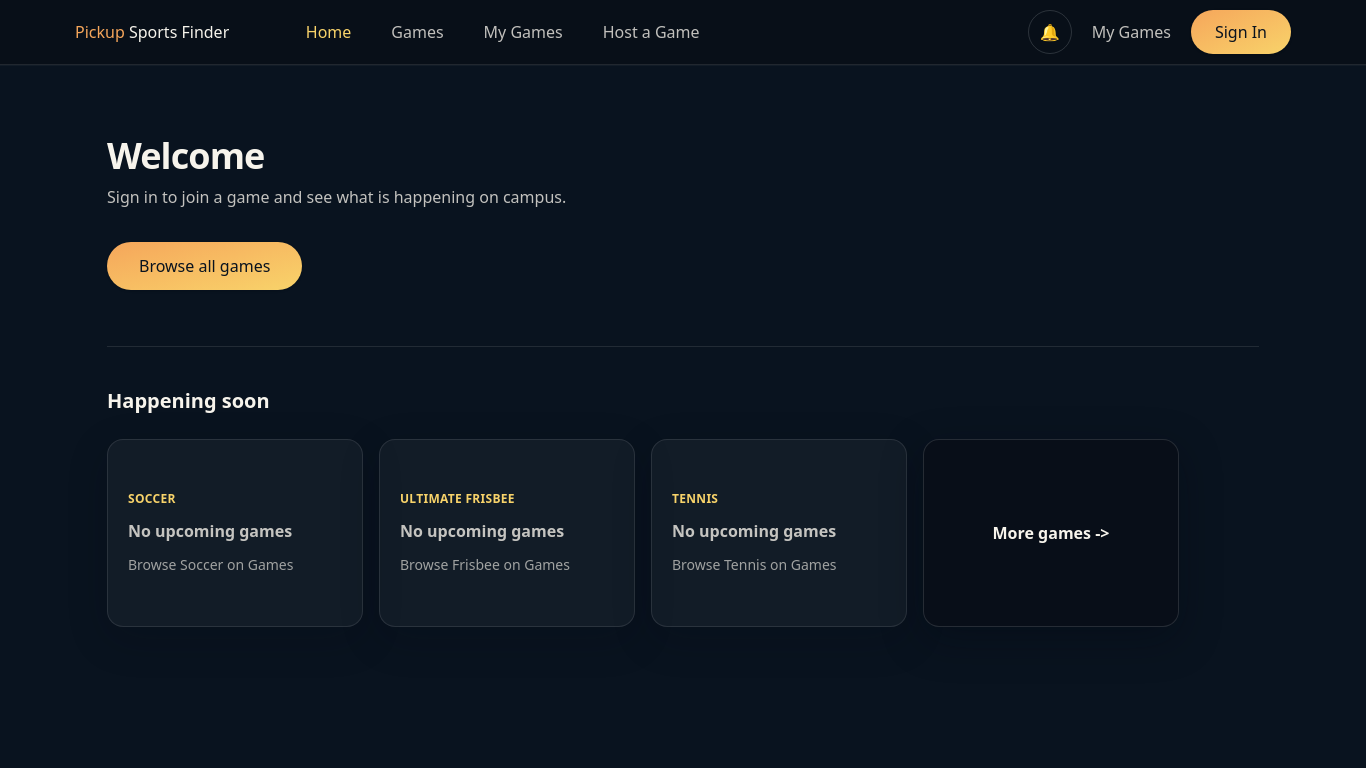
Scenario: App › navigates to games list and shows search and sport filters
Check: the heading "Welcome" is shown, box [107,131,264,180]
Click the button "Games".
click(417, 32)  # box [375,12,460,52]
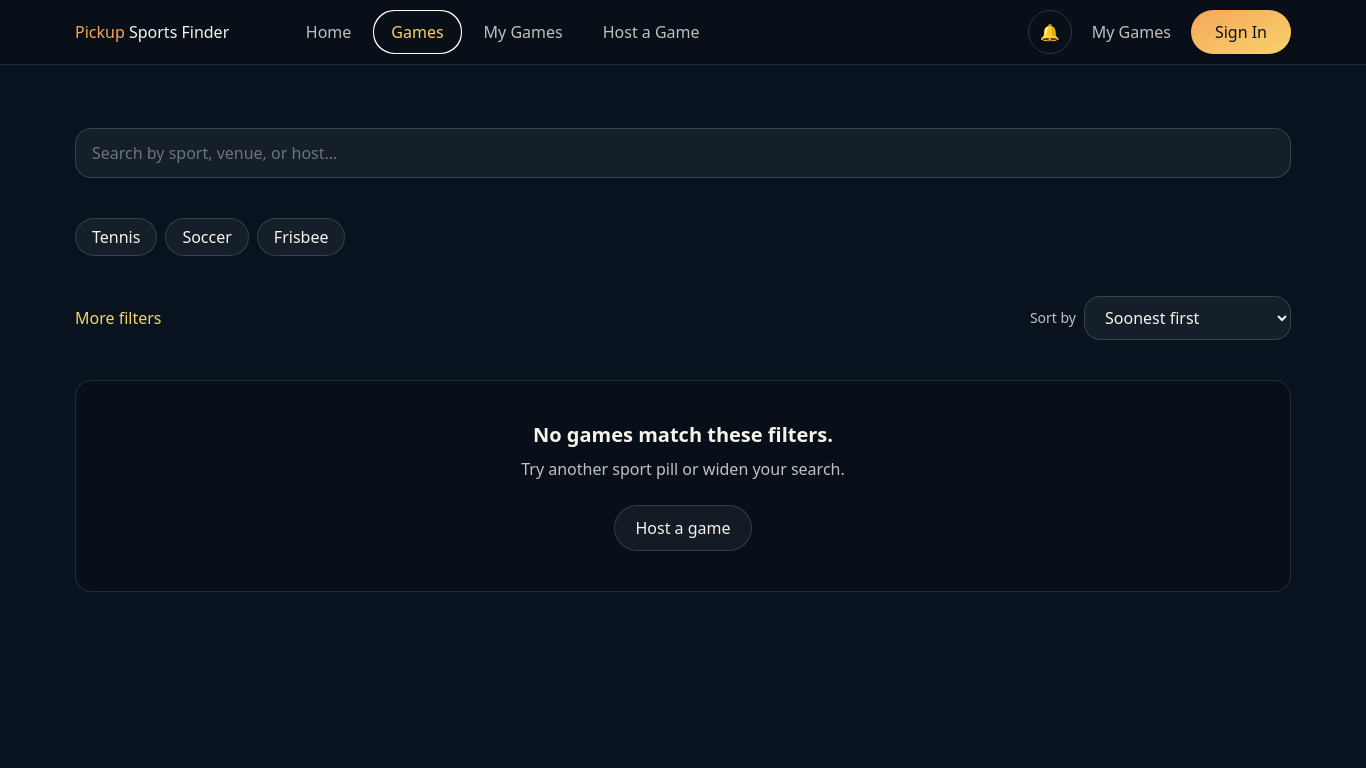
Check: the button "Tennis" is shown, box [75,218,157,256]
Check: the search field with placeholder "Search by sport, venue, or host…" is shown, box [75,128,1291,178]
